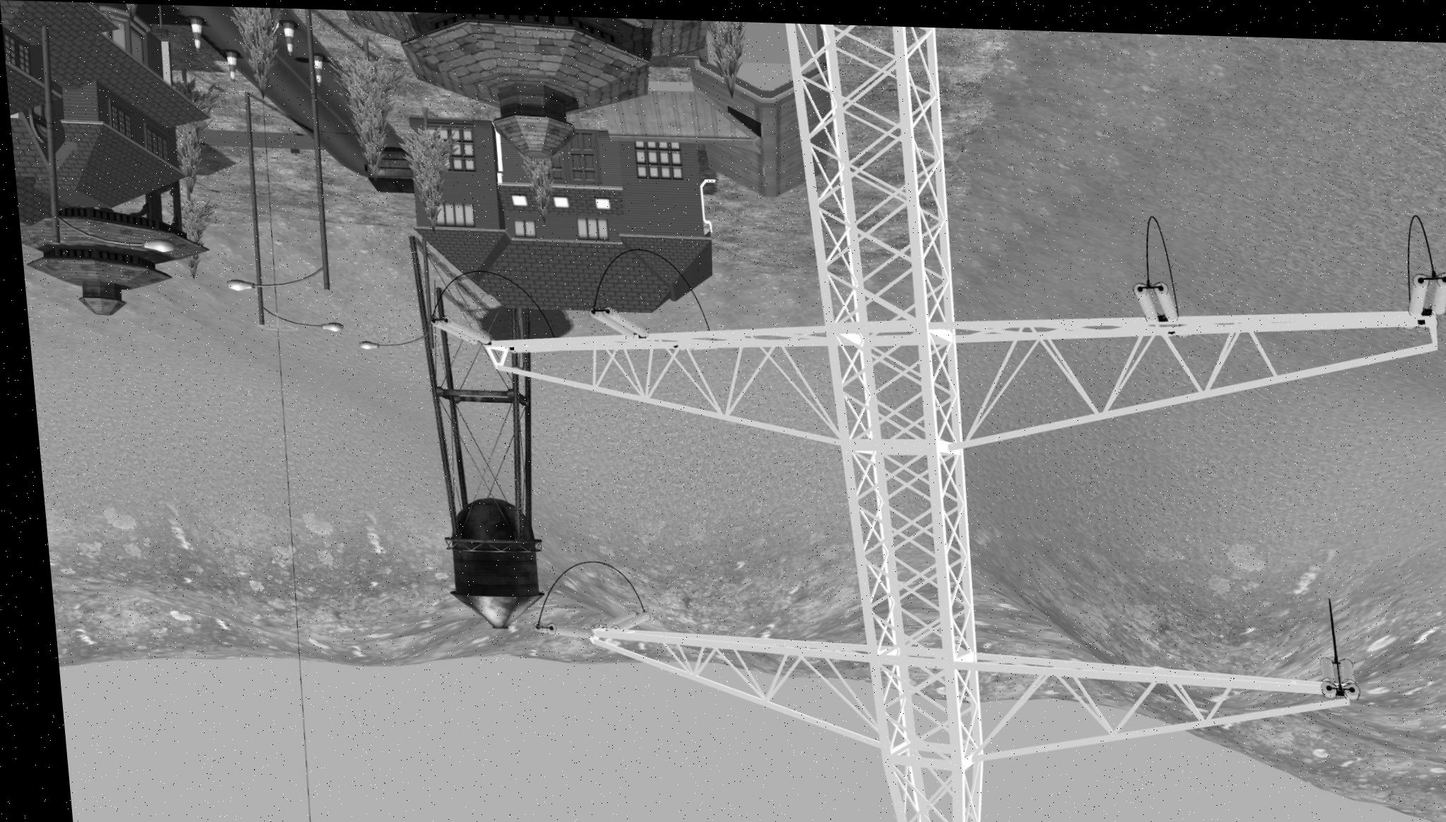tower: (450, 13, 1446, 822)
